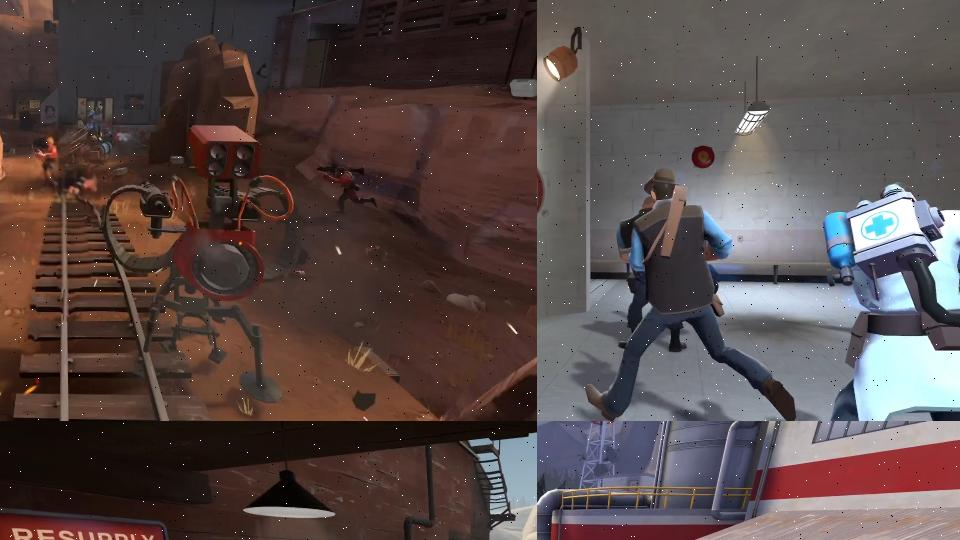Enemy: (584, 166, 798, 421), (818, 178, 960, 421), (616, 195, 688, 353), (316, 162, 377, 214), (35, 136, 59, 189)
